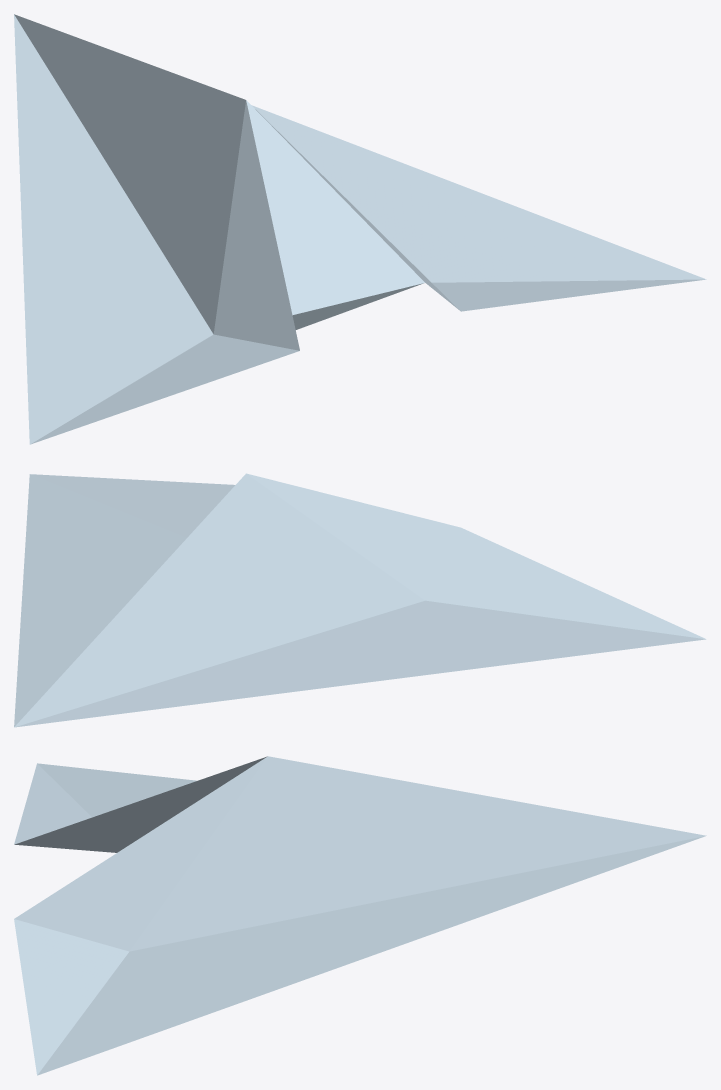
Rendered from vanguard.gltf.
3 views of the same model, one above another, from view 1: azimuth 30°, elevation 25°; view 2: azimuth 150°, elevation 25°; view 3: azimuth 270°, elevation 25° (orthographic). The views are drawn at different scales.
Visible parts, largest first — view 1: Vanguard Interceptor; view 2: Vanguard Interceptor; view 3: Vanguard Interceptor.
Part boxes in pixels (bbox=[...]): Vanguard Interceptor: bbox=[14, 14, 706, 444]; Vanguard Interceptor: bbox=[14, 473, 706, 727]; Vanguard Interceptor: bbox=[14, 756, 706, 1075].
Bounding box in the file's own units: 1.6 × 0.47 × 1.5.
